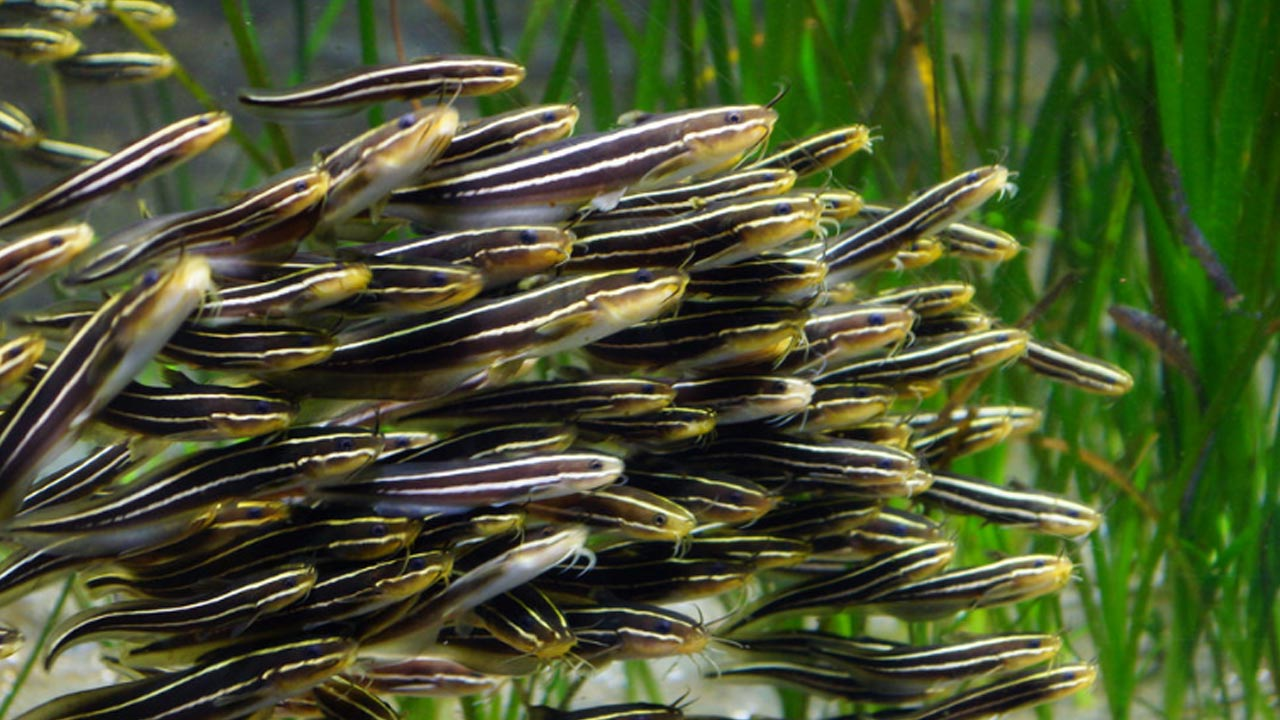gonzui: (227, 28, 550, 107), (335, 446, 635, 508)
